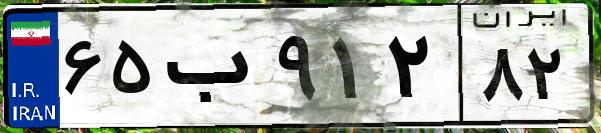1: (330, 28, 385, 110)
2: (385, 28, 445, 110), (525, 38, 570, 115)
5: (110, 28, 158, 98)
6: (57, 26, 110, 100)
8: (475, 38, 525, 113)
9: (270, 28, 330, 110)
ب: (158, 20, 270, 120)
